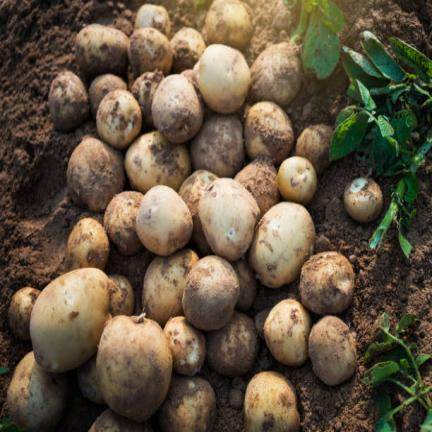potato: (30, 268, 109, 372), (97, 315, 172, 421), (249, 203, 315, 287), (198, 179, 259, 260), (7, 351, 66, 431), (67, 137, 124, 211), (182, 255, 239, 329), (143, 249, 198, 325), (125, 132, 190, 193), (136, 185, 192, 255), (196, 44, 250, 113), (190, 114, 244, 177), (152, 75, 202, 143), (300, 252, 354, 314), (207, 311, 258, 375), (250, 42, 300, 107), (244, 372, 299, 431), (158, 375, 215, 431), (263, 299, 310, 366), (308, 317, 354, 385), (179, 170, 217, 252), (245, 102, 293, 164), (234, 155, 280, 214), (96, 89, 140, 149), (76, 24, 128, 74), (103, 191, 143, 254), (164, 316, 205, 375), (65, 218, 109, 271), (205, 0, 252, 49), (49, 71, 88, 130), (128, 27, 172, 77), (278, 156, 316, 204), (131, 70, 162, 127), (296, 124, 332, 173), (8, 287, 40, 339), (89, 74, 126, 118), (344, 179, 382, 221), (170, 27, 205, 72), (89, 409, 153, 431), (232, 258, 257, 310), (78, 355, 104, 402), (135, 4, 170, 36), (109, 275, 134, 314), (180, 71, 198, 90)
